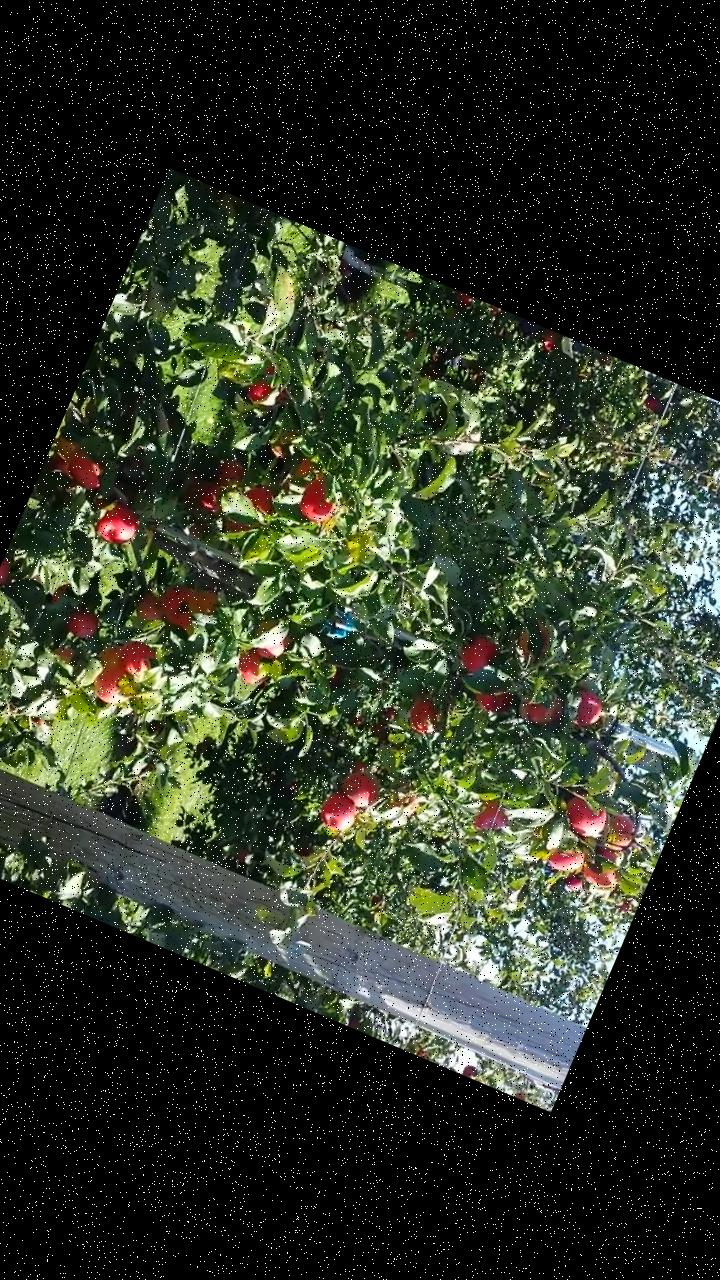Apple: (149, 576, 207, 635), (512, 680, 570, 734), (293, 472, 345, 528), (556, 793, 611, 843), (92, 498, 144, 550), (576, 840, 626, 894), (334, 765, 386, 815), (315, 786, 365, 838), (455, 630, 504, 681), (86, 660, 136, 709), (562, 686, 610, 735), (62, 446, 110, 494), (511, 614, 557, 664), (248, 615, 294, 664), (470, 792, 516, 838), (470, 678, 518, 719), (114, 638, 158, 682), (230, 644, 273, 688), (404, 692, 444, 739), (601, 810, 640, 856), (543, 839, 587, 879), (192, 476, 231, 517), (240, 481, 282, 519), (185, 578, 224, 618), (64, 603, 103, 642), (209, 453, 248, 491), (288, 454, 326, 492), (132, 587, 168, 625), (92, 636, 126, 671), (242, 374, 274, 408), (266, 426, 296, 460), (48, 449, 80, 480), (50, 433, 84, 462), (48, 578, 71, 608), (222, 515, 253, 537), (0, 555, 15, 599), (50, 642, 76, 664), (563, 871, 586, 893)
